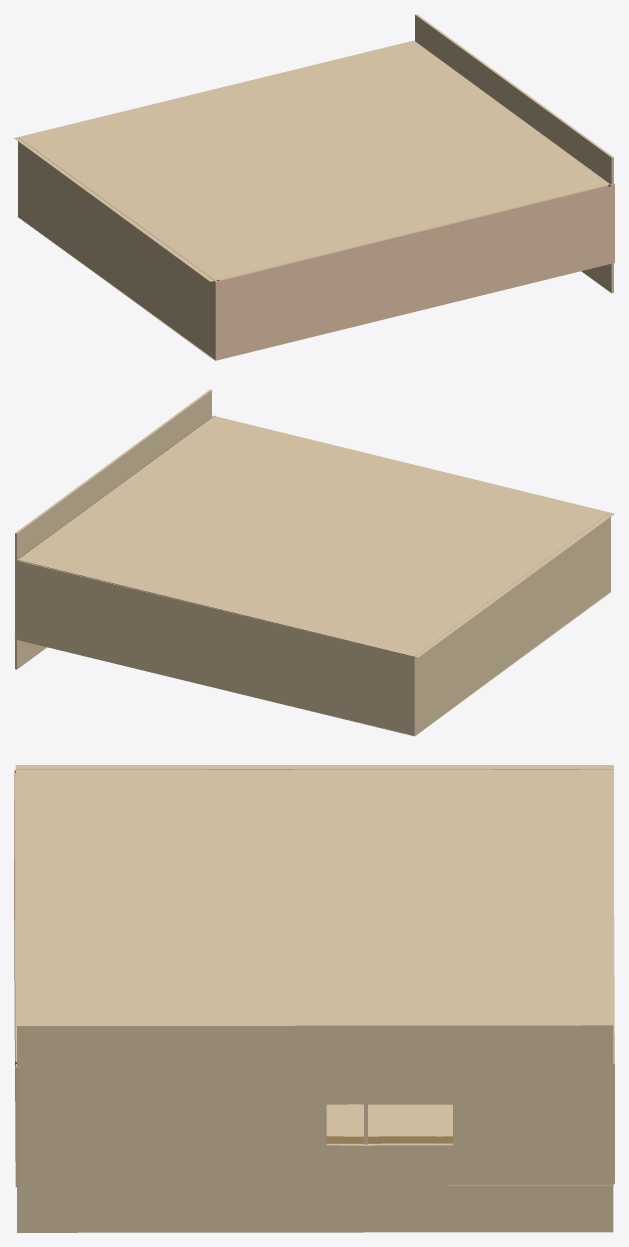
The model's file is Cat_room_v004  (1).fbx.
3 renders of one model, top to bottom at view 1: azimuth 30°, elevation 25°; view 2: azimuth 150°, elevation 25°; view 3: azimuth 270°, elevation 25°, orthographic. The views are drawn at different scales.
Parts seen in each view (by area): view 1: Ceiling, Back_Wall, Left_wall, Right_wall; view 2: Ceiling, Front_wall, Left_wall, Right_wall; view 3: Ceiling, Right_wall, Ground, Left_wall, Back_Wall, Window_aisle.
Part boxes in pixels (<box>): Ceiling: <box>14,40,609,281</box>; Back_Wall: <box>214,183,614,360</box>; Left_wall: <box>18,136,216,359</box>; Right_wall: <box>415,14,613,293</box>; Ceiling: <box>18,416,614,657</box>; Front_wall: <box>17,560,412,735</box>; Left_wall: <box>412,512,609,736</box>; Right_wall: <box>15,389,211,669</box>; Ceiling: <box>15,765,613,1062</box>; Right_wall: <box>17,1024,613,1232</box>; Ground: <box>203,1104,613,1185</box>; Left_wall: <box>17,767,613,769</box>; Back_Wall: <box>14,770,19,1187</box>; Window_aisle: <box>326,1136,452,1142</box>.
Bounding box in the file's own units: 4958 × 1589 × 4187.
